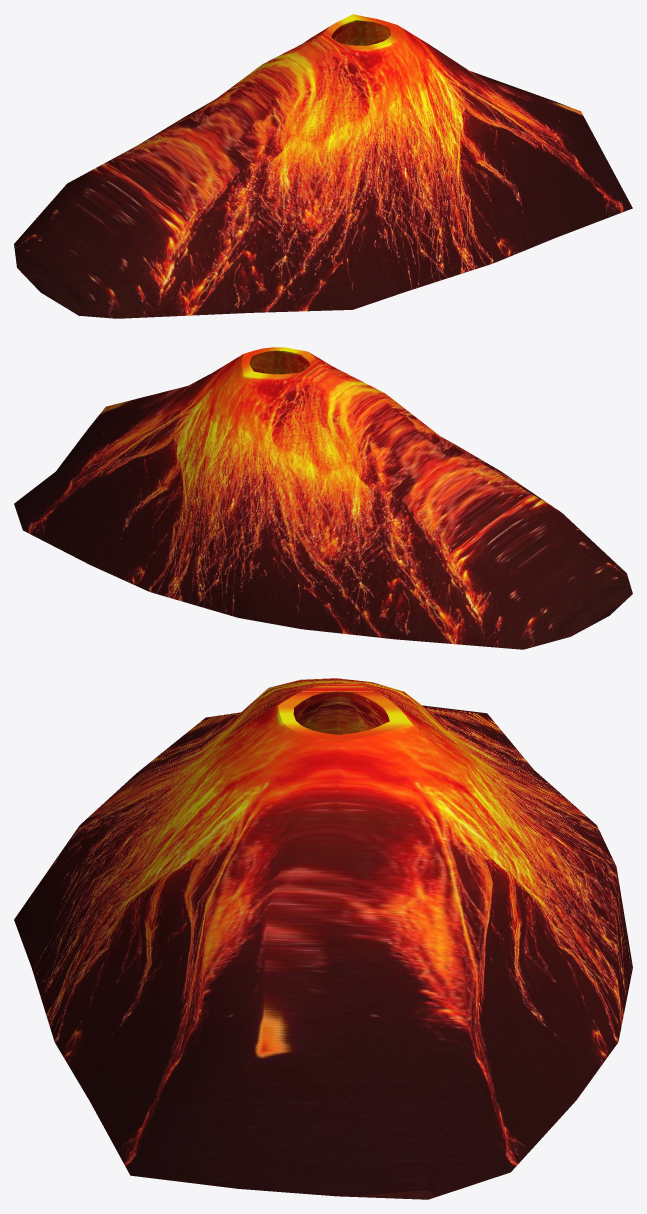
File: volcan.gltf
3 views of the same model, one above another, from view 1: azimuth 30°, elevation 25°; view 2: azimuth 150°, elevation 25°; view 3: azimuth 270°, elevation 25° (orthographic). The views are drawn at different scales.
Visible parts, largest first — view 1: pCylinder1; view 2: pCylinder1; view 3: pCylinder1.
Part boxes in pixels (box(x1,y1,x2,y2)): pCylinder1: box(14, 14, 632, 318); pCylinder1: box(14, 347, 632, 649); pCylinder1: box(14, 678, 632, 1199).
Bounding box in the file's own units: 1926 × 585 × 1112.
1 material, 1 textured.
